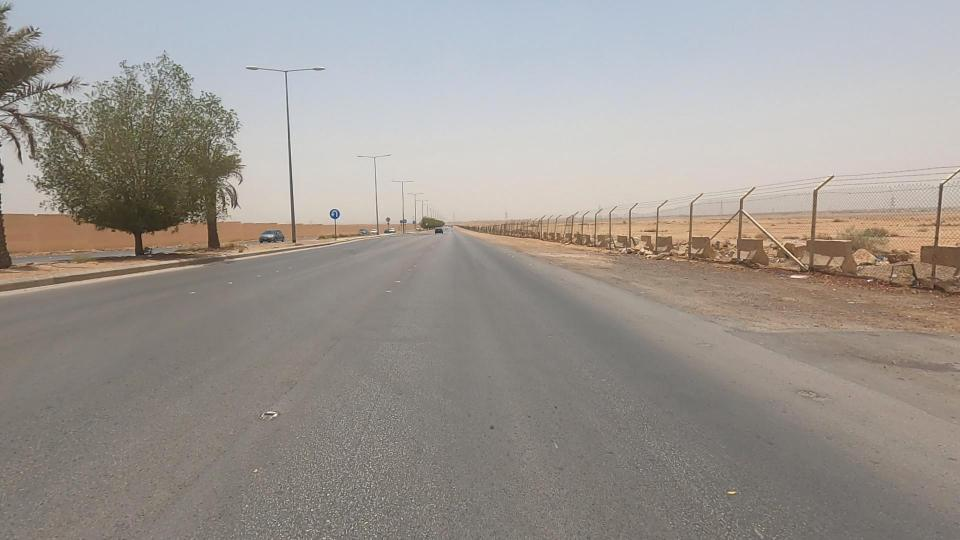GARBAGE: (761, 251, 837, 296)
